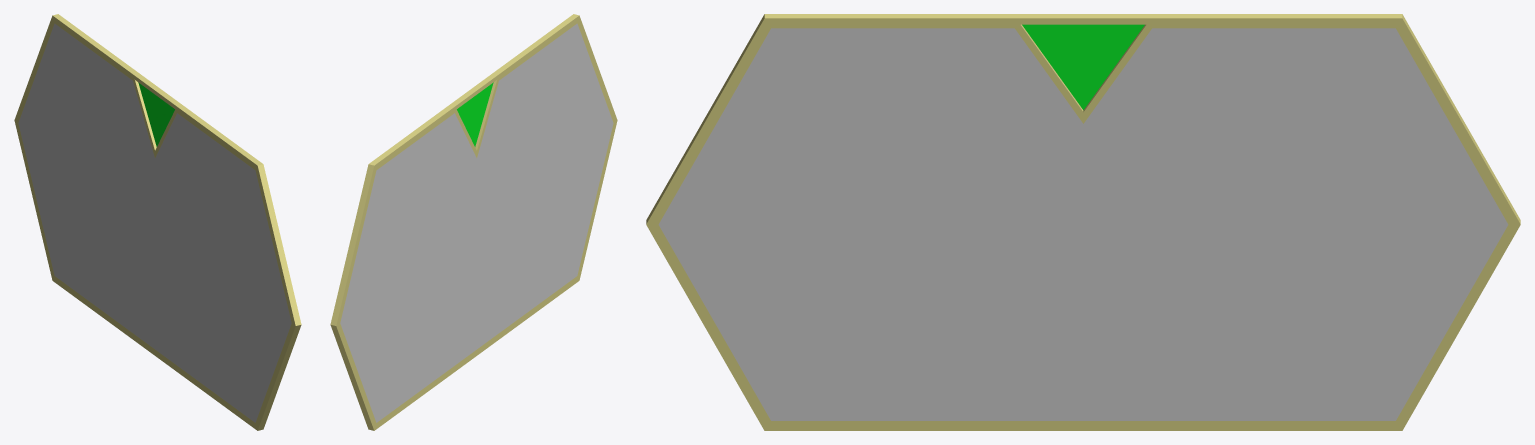
The model's file is Door.fbx.
3 views of the same model, side by side, from view 1: azimuth 30°, elevation 25°; view 2: azimuth 150°, elevation 25°; view 3: azimuth 270°, elevation 25° (orthographic). The views are drawn at different scales.
Parts seen in each view (by area): view 1: DoorLeft, DoorRight, DoorArrow; view 2: DoorRight, DoorLeft, DoorArrow; view 3: DoorLeft, DoorRight, DoorArrow.
Boxes of the visible parts, left/top/right/bottom form: DoorLeft: left=155, top=107, right=301, bottom=430; DoorRight: left=14, top=14, right=154, bottom=355; DoorArrow: left=131, top=71, right=184, bottom=157; DoorRight: left=330, top=107, right=476, bottom=430; DoorLeft: left=477, top=14, right=617, bottom=355; DoorArrow: left=447, top=71, right=500, bottom=157; DoorLeft: left=646, top=14, right=1083, bottom=430; DoorRight: left=1083, top=14, right=1520, bottom=430; DoorArrow: left=1007, top=14, right=1159, bottom=123.
Bounding box in the file's own units: 6.56 × 283 × 543.
